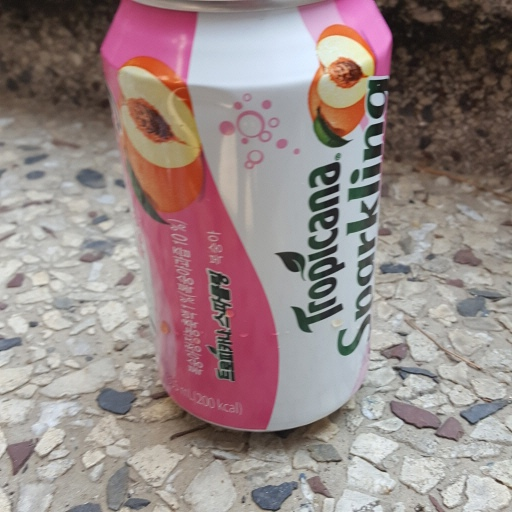Metal_0: (99, 1, 394, 435)
